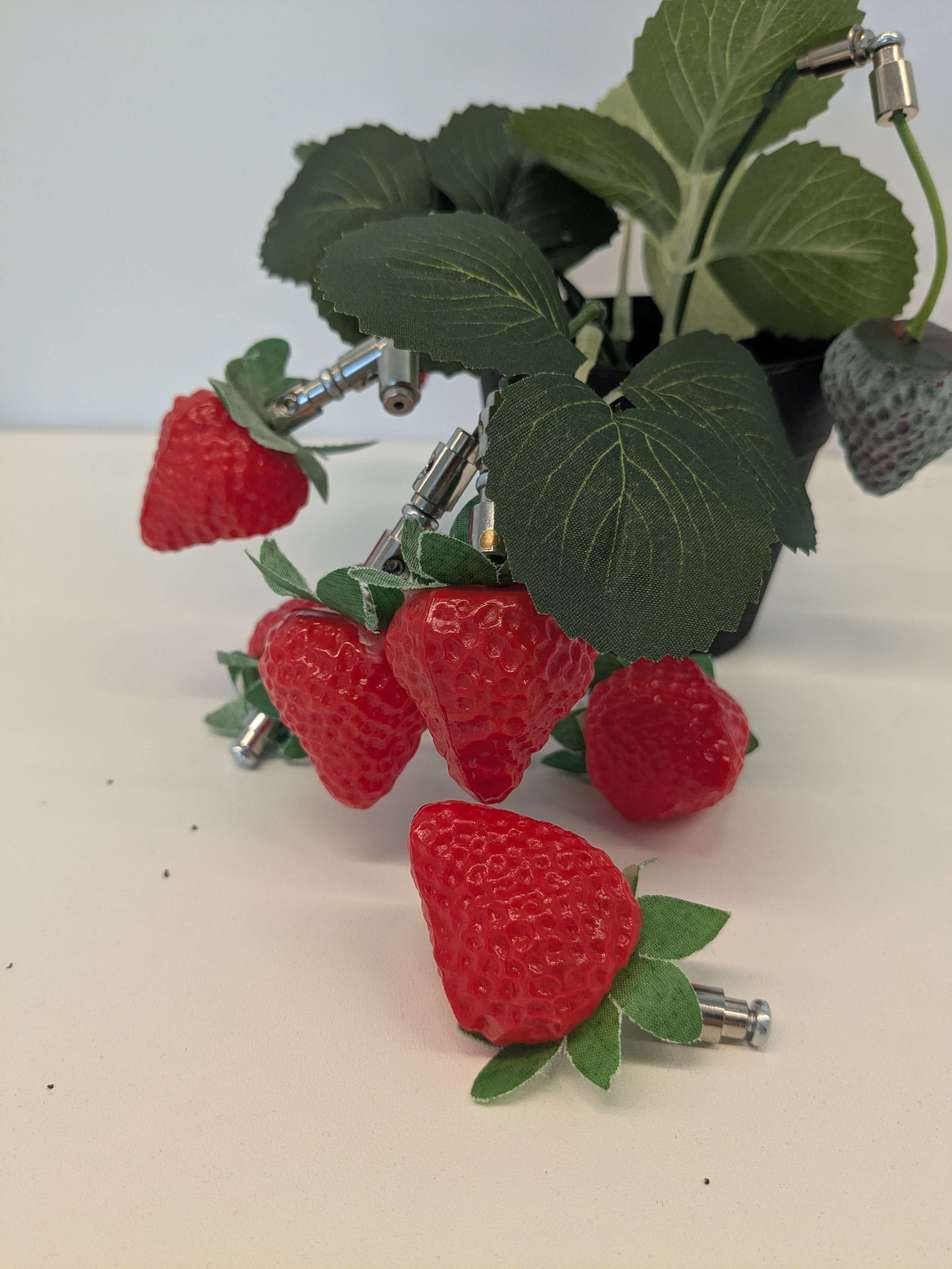Strawberry: (400, 785, 660, 1060), (380, 576, 598, 807), (101, 355, 335, 559), (256, 581, 439, 822), (578, 661, 772, 827)
